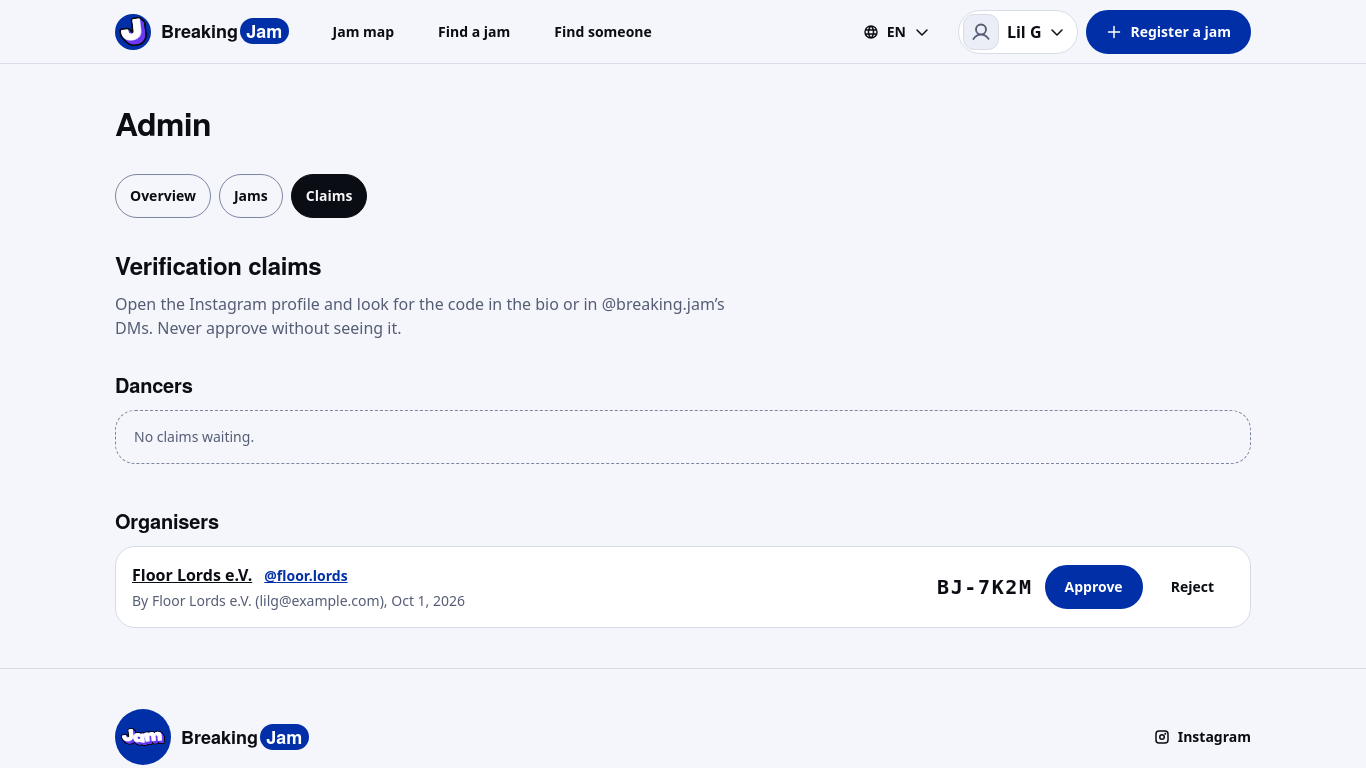
Test: OrganizerPage › puts organiser claims in the admin queue
The width and height of the screenshot is (1366, 768).
What coordinates should you click on to do the following:
click the button "Approve"
I would click on:
 (1094, 587)
Its box is [1045,565,1143,609].
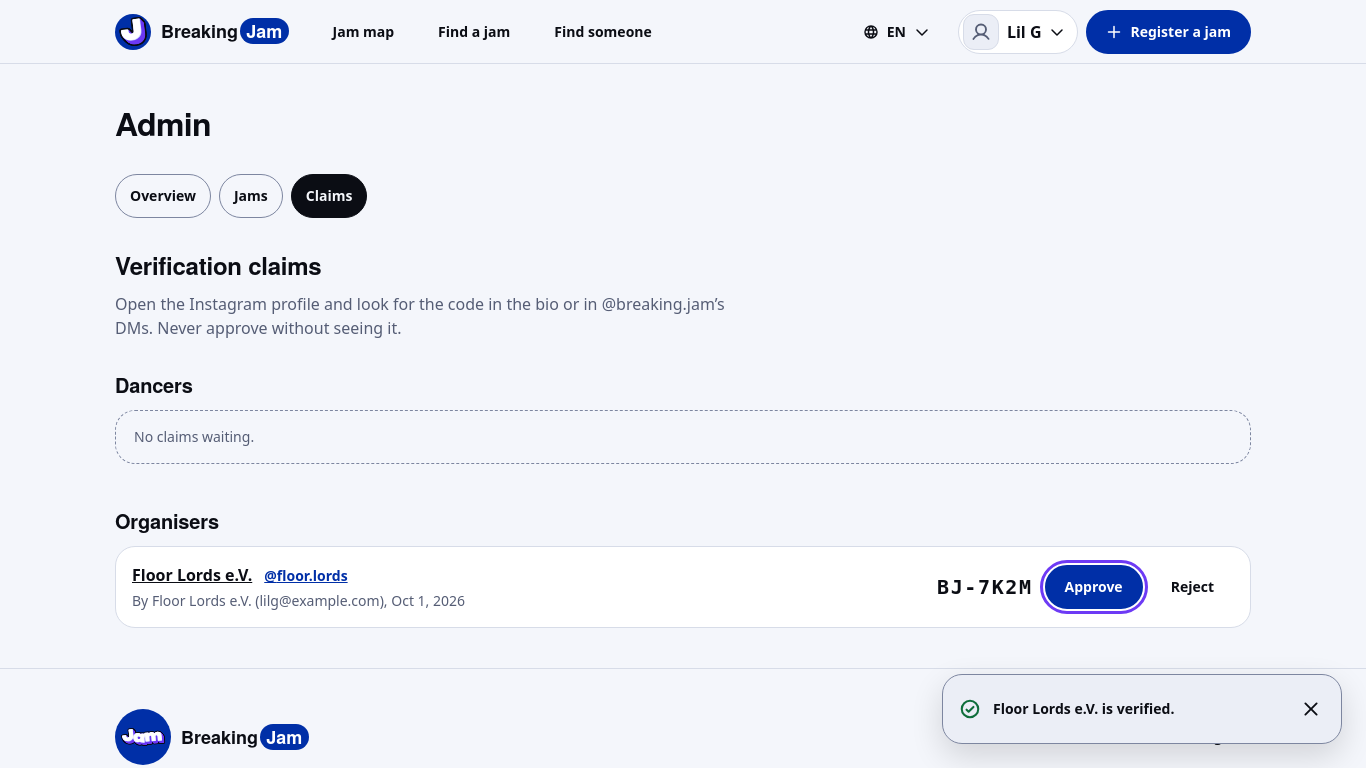
Expected: the text "Floor Lords e.V. is verified." is shown, [993,699,1174,718]
